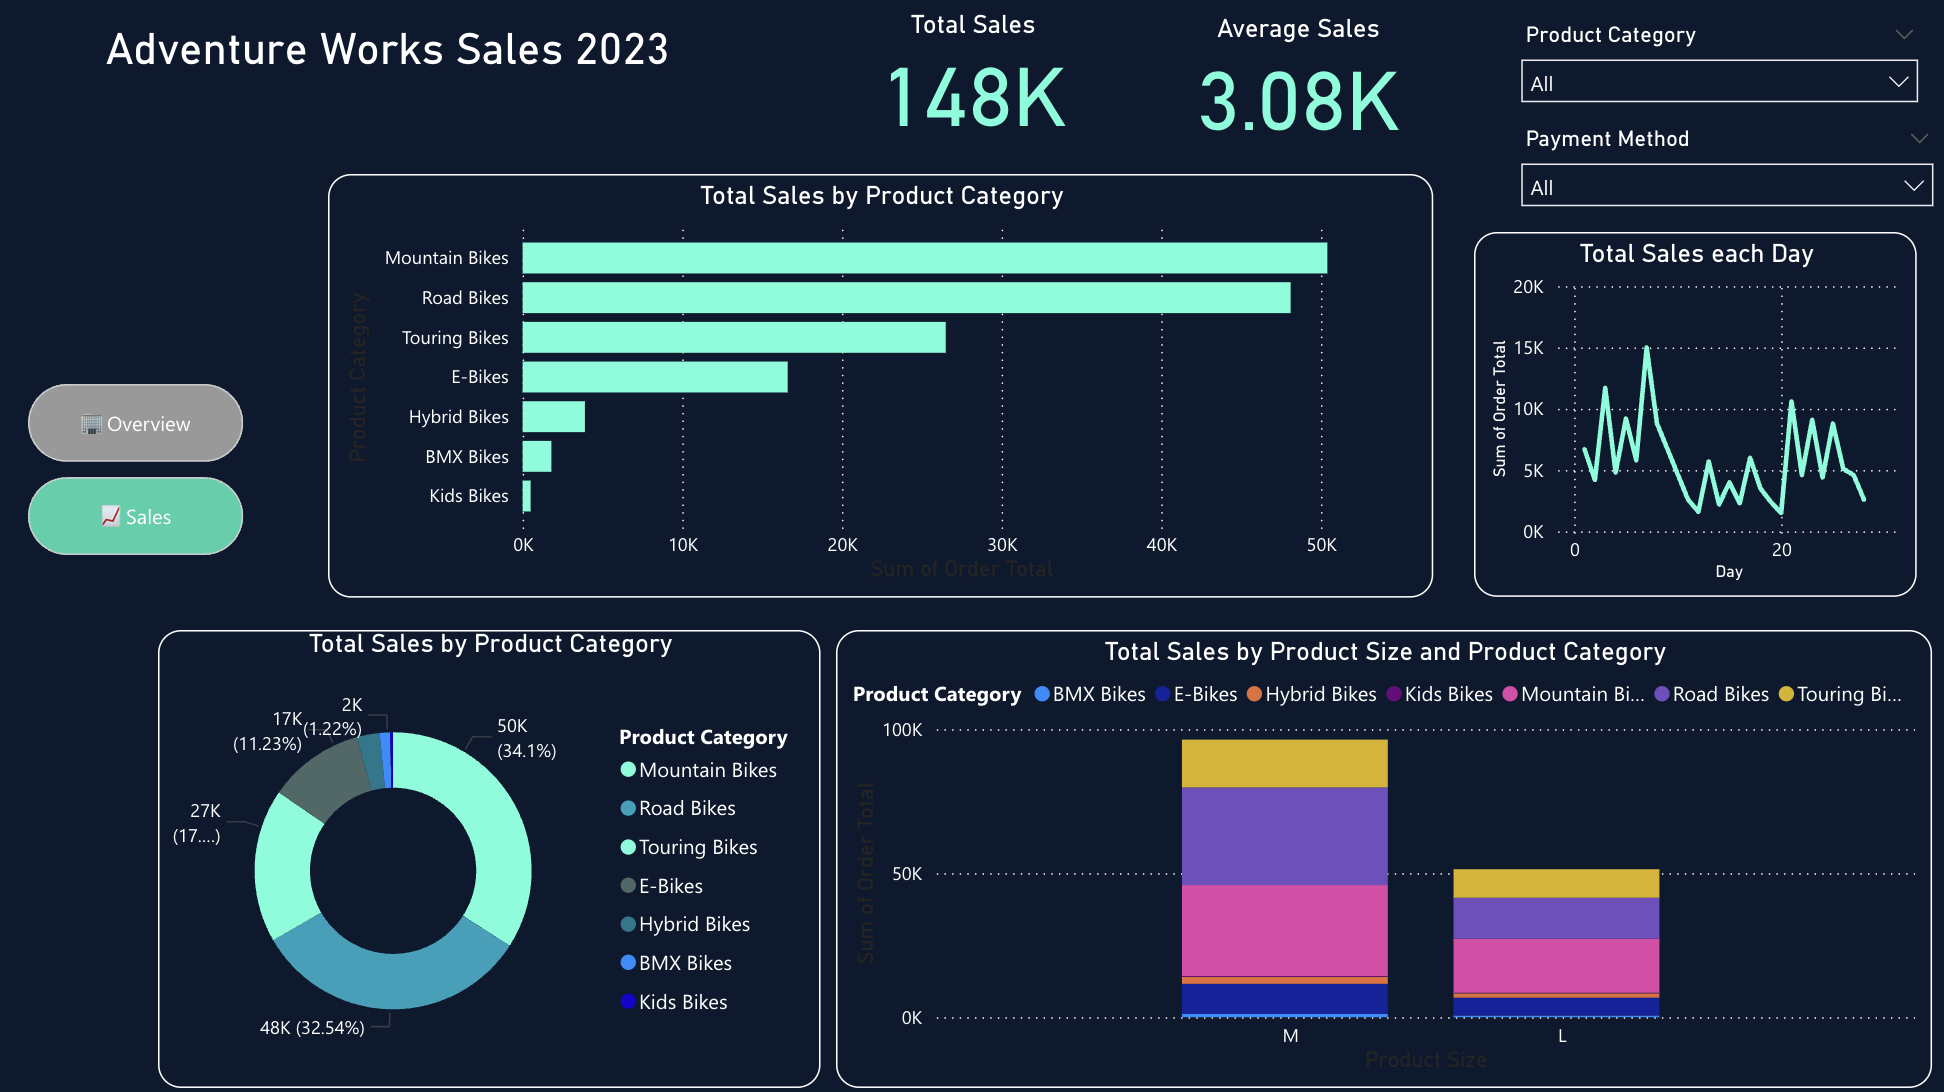

This screenshot's page, from the dashboard's own definition file:
{"tool":"powerbi","page":{"name":"📈 Sales","canvas":[1280,720],"ordinal":1},"visuals":[{"type":"shape","box":[0,96,150,470],"z":0},{"type":"shape","box":[542,0,448,122],"z":1000},{"type":"slicer","fields":{"Values":["AdventureWorks-sales-dataset.Product Category"]},"box":[990,14,280,90],"z":2000},{"type":"slicer","fields":{"Values":["AdventureWorks-sales-dataset.Payment Method"]},"box":[990,82.5,290,66.2],"z":3000},{"type":"donutChart","title":" Total Sales by Product Category","fields":{"Category":["AdventureWorks-sales-dataset.Product Category"],"Y":["Sum(AdventureWorks-sales-dataset.Order Total)"]},"box":[108,416,434,300],"z":4000},{"type":"card","title":"Total Sales","fields":{"Values":["Sum(AdventureWorks-sales-dataset.Order Total)"]},"box":[542.9,12.1,197.9,82],"z":5000},{"type":"card","title":"Average Sales","fields":{"Values":["AdventureWorks-sales-dataset.Avg Order_Total"]},"box":[766.1,14.5,176.1,82],"z":6000},{"type":"clusteredBarChart","title":" Total Sales by Product Category","fields":{"Category":["AdventureWorks-sales-dataset.Product Category"],"Y":["Sum(AdventureWorks-sales-dataset.Order Total)"]},"box":[218.8,117.5,723.8,277.5],"z":7000},{"type":"columnChart","title":"Total Sales by Product Size and Product Category","fields":{"Y":["Sum(AdventureWorks-sales-dataset.Order Total)"],"Category":["AdventureWorks-sales-dataset.Product Size"],"Series":["AdventureWorks-sales-dataset.Product Category"]},"box":[552,416,718,300],"z":8000},{"type":"textbox","title":"Adventure Works Sales 2023","box":[0,2,516,114],"z":9000},{"type":"pageNavigator","box":[22.9,255.8,141.2,112.2],"z":10000},{"type":"lineChart","title":" Total Sales each Day","fields":{"Category":["AdventureWorks-sales-dataset.Order Date.Variation.Date Hierarchy.Day"],"Y":["Sum(AdventureWorks-sales-dataset.Order Total)"]},"box":[970,156.2,290,238.8],"z":11000}]}

Visuals, with their boxes in screenshot pixels (x1, y1, x2, y2), scaled from the page's 1280x720 canvas onto the 1944x1092 screenshot:
shape: <bbox>0, 146, 228, 858</bbox>
shape: <bbox>823, 0, 1504, 185</bbox>
slicer - AdventureWorks-sales-dataset.Product Category: <bbox>1504, 21, 1929, 158</bbox>
slicer - AdventureWorks-sales-dataset.Payment Method: <bbox>1504, 125, 1943, 226</bbox>
" Total Sales by Product Category" donutChart: <bbox>164, 631, 823, 1086</bbox>
"Total Sales" card: <bbox>825, 18, 1125, 143</bbox>
"Average Sales" card: <bbox>1164, 22, 1431, 146</bbox>
" Total Sales by Product Category" clusteredBarChart: <bbox>332, 178, 1432, 599</bbox>
"Total Sales by Product Size and Product Category" columnChart: <bbox>838, 631, 1929, 1086</bbox>
"Adventure Works Sales 2023" textbox: <bbox>0, 3, 784, 176</bbox>
pageNavigator: <bbox>35, 388, 249, 558</bbox>
" Total Sales each Day" lineChart: <bbox>1473, 237, 1914, 599</bbox>
